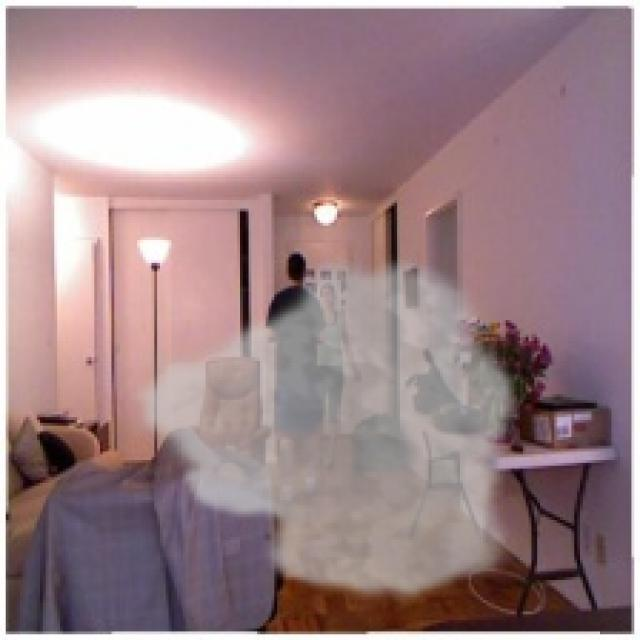Smoke: (128, 248, 523, 606)
